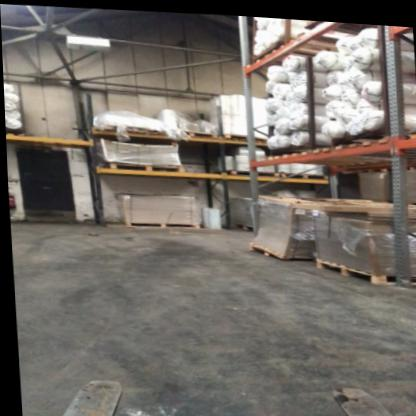vertical_damage: (389, 265, 412, 285)
